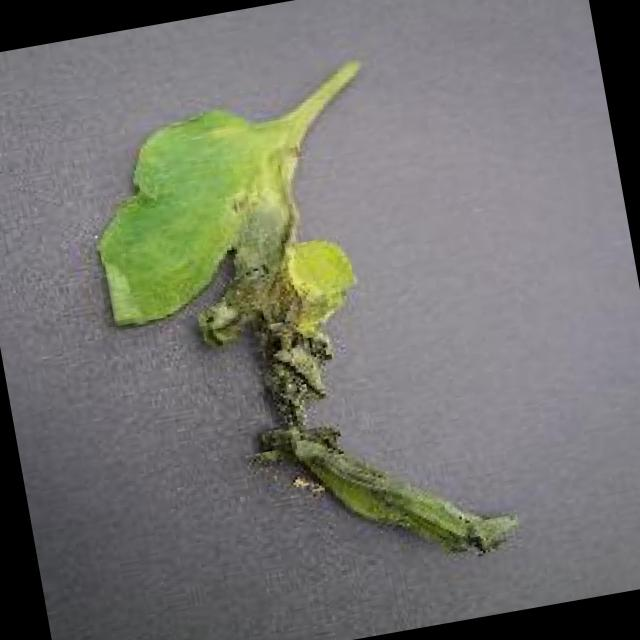Tomato_Late_Blight: (58, 17, 556, 624)
